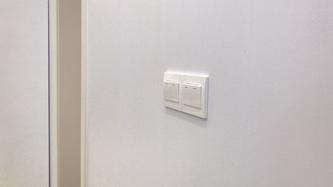switch: (180, 82, 192, 108), (191, 83, 202, 108), (171, 81, 179, 102), (163, 80, 171, 101)
